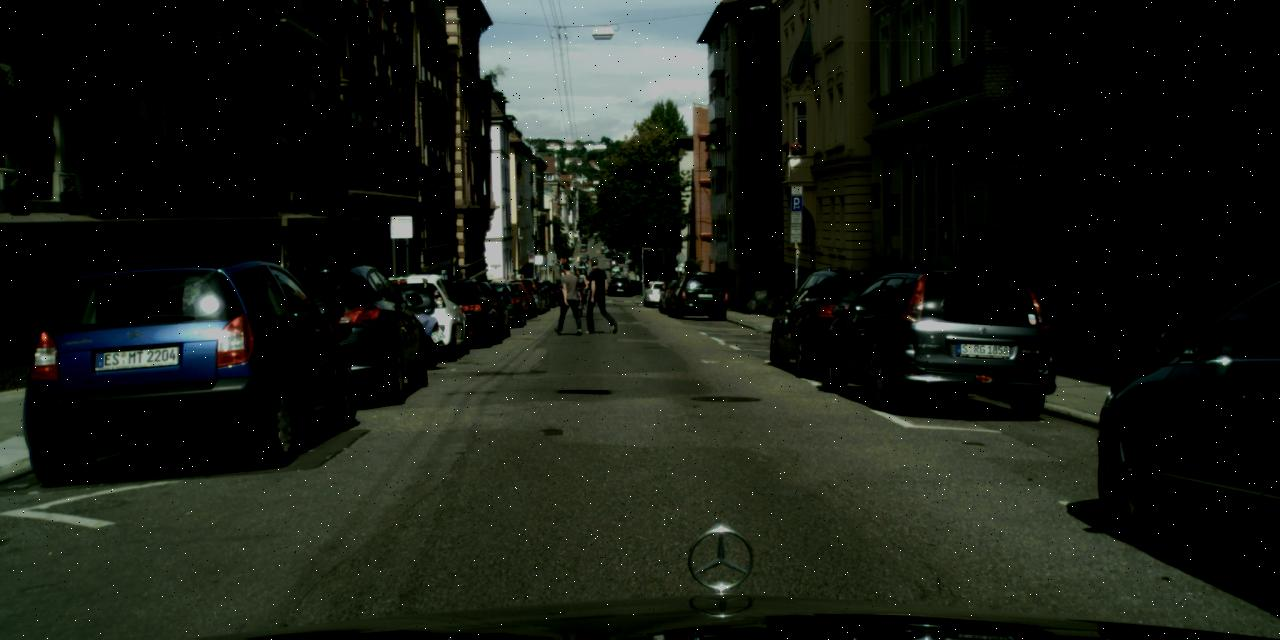ped: (584, 256, 614, 332), (552, 262, 582, 334), (570, 268, 587, 308)
